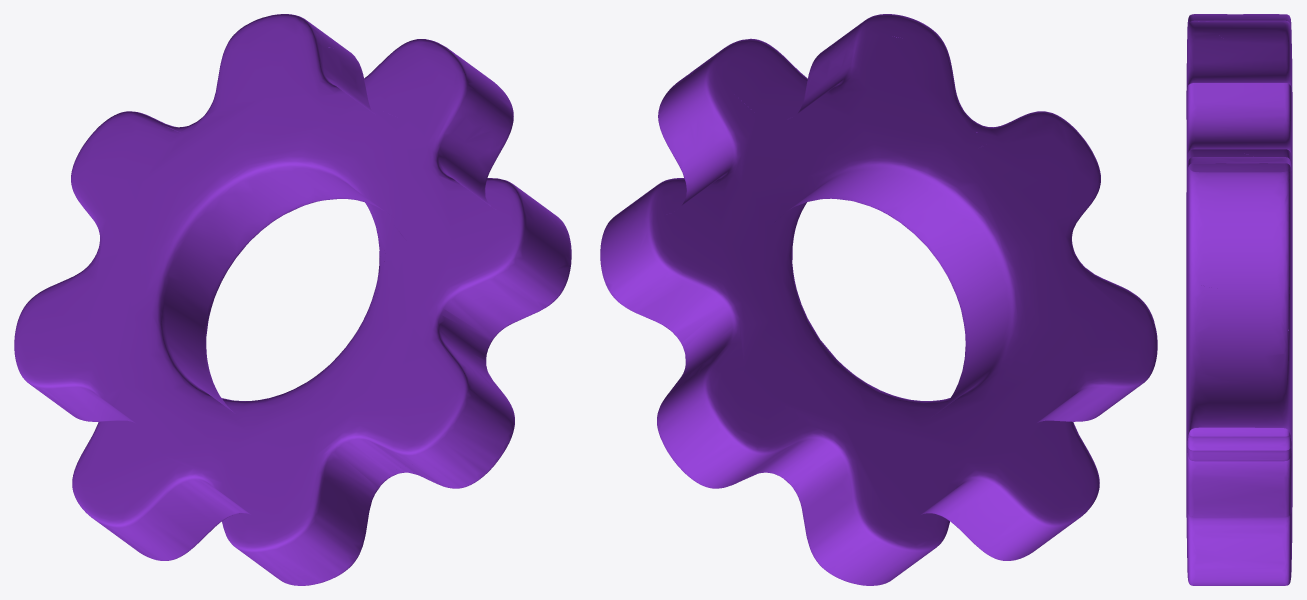
Rendered from setting.glb.
The picture shows the model from 3 angles, left to right: view 1: azimuth 30°, elevation 25°; view 2: azimuth 150°, elevation 25°; view 3: azimuth 270°, elevation 25°; orthographic projection.
Parts seen in each view (by area): view 1: Circle; view 2: Circle; view 3: Circle.
Part boxes in pixels (x1,y1,x2,y2): Circle: (14, 14, 571, 585); Circle: (600, 14, 1157, 585); Circle: (1186, 14, 1292, 585).
Size of the model in its own units: 1.9 by 1.9 by 0.3376.
